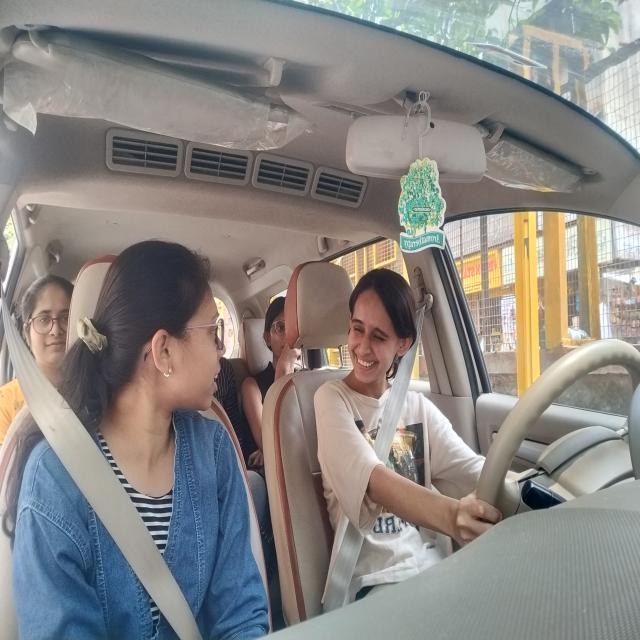LeftRight: (335, 269, 425, 396)
person: (128, 247, 233, 418), (25, 286, 74, 362), (268, 296, 308, 366)
talking: (348, 349, 382, 376)
